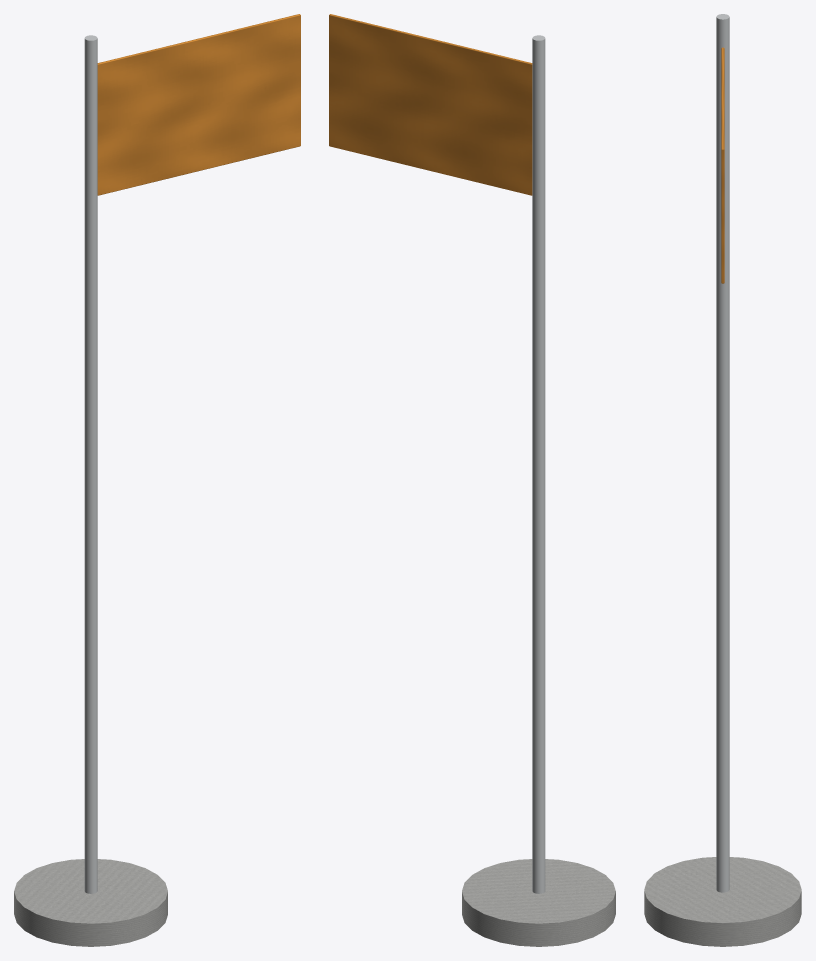
The model's file is fps-weapon-set-and-firing-range-range-flag-fb6c5398__19503.glb.
3 renders of one model, left to right at view 1: azimuth 30°, elevation 25°; view 2: azimuth 150°, elevation 25°; view 3: azimuth 270°, elevation 25°, orthographic. The views are drawn at different scales.
Parts seen in each view (by area): view 1: range-flag; view 2: range-flag; view 3: range-flag.
Boxes of the visible parts, <box> form: range-flag: <box>14,14,300,946</box>; range-flag: <box>329,14,615,946</box>; range-flag: <box>644,14,801,946</box>.
Size of the model in its own units: 0.745 by 2.26 by 0.36.
Materials: 3 (2 with a texture image).
